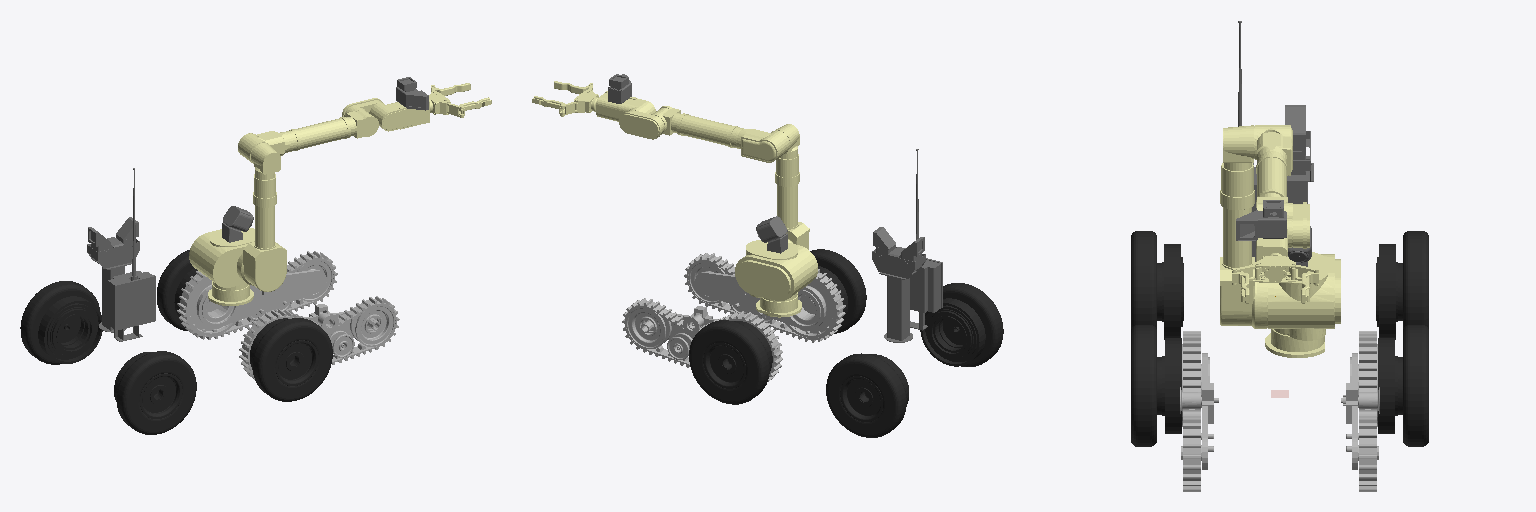
--- Facts derived from the render (not from the file) ---
The picture shows the robot from 3 angles, left to right: view 1: azimuth 30°, elevation 25°; view 2: azimuth 150°, elevation 25°; view 3: azimuth 270°, elevation 25°; orthographic projection.
Robot: move_vehicle — 29 links, 28 joints (12 revolute, 4 continuous, 1 prismatic, 11 fixed); root link base_footprint; default pose: all joints at 0.
Links seen in each view (by area): view 1: swingarm_left, wheel_rf, wheel_rb, wheel_lb, 21_communication_device, swingarm_right, 13_arm_bigarm_pitch, 12_arm_turret_rotate, 16_arm_forearm_rotate, wheel_lf, 17_arm_wrist_pitch, 15_arm_forearm_pitch (+4 smaller); view 2: swingarm_right, wheel_lf, wheel_lb, 21_communication_device, wheel_rb, swingarm_left, 12_arm_turret_rotate, 16_arm_forearm_rotate, wheel_rf, 13_arm_bigarm_pitch, 15_arm_forearm_pitch, 17_arm_wrist_pitch (+3 smaller); view 3: wheel_rf, wheel_lf, 13_arm_bigarm_pitch, wheel_lb, wheel_rb, 12_arm_turret_rotate, swingarm_left, swingarm_right, 21_communication_device, 16_arm_forearm_rotate, 23_wrist_camera, 14_arm_bigarm_linear (+4 smaller).
Boxes of the visible links, <box> form: swingarm_left: <box>177,251,337,339</box>; wheel_rf: <box>250,318,332,401</box>; wheel_rb: <box>114,351,196,434</box>; wheel_lb: <box>20,281,102,364</box>; 21_communication_device: <box>87,168,155,341</box>; swingarm_right: <box>239,296,399,379</box>; 13_arm_bigarm_pitch: <box>237,174,286,291</box>; 12_arm_turret_rotate: <box>189,228,254,290</box>; 16_arm_forearm_rotate: <box>289,98,382,150</box>; wheel_lf: <box>157,250,197,330</box>; 17_arm_wrist_pitch: <box>369,99,432,131</box>; 15_arm_forearm_pitch: <box>238,131,293,162</box>; swingarm_right: <box>684,253,845,342</box>; wheel_lf: <box>689,320,772,404</box>; wheel_lb: <box>826,353,908,437</box>; 21_communication_device: <box>872,149,942,342</box>; wheel_rb: <box>920,283,1003,366</box>; swingarm_left: <box>622,298,782,381</box>; 12_arm_turret_rotate: <box>735,240,817,301</box>; 16_arm_forearm_rotate: <box>619,106,739,147</box>; wheel_rf: <box>810,249,866,333</box>; 13_arm_bigarm_pitch: <box>775,154,809,249</box>; 15_arm_forearm_pitch: <box>734,128,789,162</box>; 17_arm_wrist_pitch: <box>591,91,655,121</box>; wheel_rf: <box>1131,325,1181,446</box>; wheel_lf: <box>1378,325,1428,446</box>; 13_arm_bigarm_pitch: <box>1220,163,1266,328</box>; wheel_lb: <box>1376,231,1428,339</box>; wheel_rb: <box>1131,231,1183,339</box>; 12_arm_turret_rotate: <box>1267,252,1340,340</box>; swingarm_left: <box>1341,331,1379,491</box>; swingarm_right: <box>1180,331,1218,491</box>; 21_communication_device: <box>1238,21,1313,261</box>; 16_arm_forearm_rotate: <box>1256,153,1309,248</box>; 23_wrist_camera: <box>1236,200,1286,240</box>; 14_arm_bigarm_linear: <box>1223,125,1254,170</box>.
Size in the robot's own frame: 1.91 by 0.8562 by 1.1 metres.
Meshes: 22 distinct files referenced, 21 mesh visuals loaded (21 binary STL); not drawn: 1 (reference not matched to a file when rendering).

URDF robot description (move_vehicle):
<?xml version="1.0" ?>
<!-- =================================================================================== -->
<!-- |    This document was autogenerated by xacro from mobot_vehicle_1.xacro          | -->
<!-- |    EDITING THIS FILE BY HAND IS NOT RECOMMENDED                                 | -->
<!-- =================================================================================== -->
<robot name="move_vehicle" xmlns:xacro="http://www.ros.org/wiki/xacro">
  <!-- 1. Defining the colors used in this robot -->
  <material name="MistyRose">
    <color rgba="1 0.8945 0.8828 1"/>
  </material>
  <material name="Grey">
    <color rgba="0.2148 0.2148 0.2148 1"/>
  </material>
  <material name="Blue">
    <color rgba="0.0 0.0 0.8 1.0"/>
  </material>
  <material name="MiddleGrey">
    <color rgba="0.5 0.5 0.5 1"/>
  </material>
  <material name="LightGrey">
    <color rgba="0.75 0.75 0.75 1"/>
  </material>
  <material name="Bisque">
    <color rgba="0.9336 0.9336 0.7188 1"/>
  </material>
  <!--  2. Define the baseprint of the robot  -->
  <link name="base_footprint">
    <visual>
      <origin rpy="0 0 0" xyz="0 0 0"/>
      <geometry>
        <box size="0.05 0.05 0.001"/>
      </geometry>
      <material name="MistyRose"/>
    </visual>
  </link>
  <gazebo reference="base_footprint">
    <turnGravityOff>false</turnGravityOff>
  </gazebo>
  <!--  3. Define the robot movebase  -->
  <link name="base_link">
    <visual>
      <origin rpy="0 0 0" xyz="0 0 0"/>
      <geometry>
        <mesh filename="package://mobot_description/meshes/base_link.STL"/>
      </geometry>
      <material name="MistyRose"/>
    </visual>
    <collision>
      <origin rpy="0 0 0" xyz="0 0 0"/>
      <geometry>
        <mesh filename="package://mobot_description/meshes/base_link.STL"/>
      </geometry>
    </collision>
    <inertial>
      <origin rpy="0 0 0" xyz="0.038037 -0.0019933 0.00077981"/>
      <mass value="31.065"/>
      <inertia ixx="1.0666" ixy="0.011171" ixz="-0.00016117" iyy="2.3226" iyz="0.00014034" izz="3.1096"/>
    </inertial>
  </link>
  <joint name="base_joint" type="fixed">
    <origin rpy="0 0 0" xyz="0 0 0.175"/>
    <parent link="base_footprint"/>
    <child link="base_link"/>
  </joint>
  <gazebo reference="base_link">
    <material>Gazebo/Red</material>
    <turnGravityOff>false</turnGravityOff>
  </gazebo>
  <!--  Define the fake joints for the move base  -->
  <!-->
    <link name="fake_left_wheel">
      <visual>
        <origin rpy="0 0 0" xyz="0 0 0"/>
        <geometry>
          <box size="0.001 0.001 0.001"/>
        </geometry>
      </visual>
      <collision>
        <origin rpy="0 0 0" xyz="0 0 0"/>
        <geometry>
          <box size="0.001 0.001 0.001"/>
        </geometry>
      </collision>
      <inertial>
        <mass value="0.001" />
        <origin xyz="0 0 0" />
        <inertia ixx="0.001" ixy="0.0" ixz="0.0"
            iyy="0.001" iyz="0.0" izz="0.001" />
      </inertial>
    </link>
    <joint name="base_l_wheel_joint" type="continuous">
      <origin xyz="0.0 0.3901 0.0" rpy="-1.5708 -1.5708 0" />
      <parent link="base_link" />
      <child link="fake_left_wheel" />
      <axis xyz="0 0 1" />
    </joint>


    <link name="fake_right_wheel">
      <visual>
        <origin rpy="0 0 0" xyz="0 0 0"/>
        <geometry>
          <box size="0.001 0.001 0.001"/>
        </geometry>
      </visual>
      <collision>
        <origin rpy="0 0 0" xyz="0 0 0"/>
        <geometry>
          <box size="0.001 0.001 0.001"/>
        </geometry>
      </collision>
    </link>

    <joint name="base_r_wheel_joint" type="continuous">
      <origin xyz="0.0 -0.3901 0.0" rpy="-1.5708 -1.5708 0" />
      <parent link="base_link" />
      <child link="fake_right_wheel" />
      <axis xyz="0 0 1" />
    </joint>
<-->
  <!--  ///////////////////////////////////////////////////////////////////////////  -->
  <!--  4. Define the four wheels of robot movebase  -->
  <!-- 4.1. the left_front wheel -->
  <link name="wheel_lf">
    <inertial>
      <origin rpy="0 0 0" xyz="1.7209E-06 -7.4175E-07 -0.024764"/>
      <mass value="7.6485"/>
      <inertia ixx="0.079312" ixy="9.0434E-07" ixz="-5.3408E-07" iyy="0.079311" iyz="2.374E-07" izz="0.12138"/>
    </inertial>
    <visual>
      <origin rpy="0 0 0" xyz="0 0 0"/>
      <geometry>
        <mesh filename="package://mobot_description/meshes/wheel_lf.STL"/>
      </geometry>
      <material name="Grey"/>
    </visual>
    <collision>
      <origin rpy="0 0 0" xyz="0 0 0"/>
      <geometry>
        <mesh filename="package://mobot_description/meshes/wheel_lf.STL"/>
      </geometry>
    </collision>
  </link>
  <joint name="joint_wheel_lf" type="continuous">
    <origin rpy="-1.5708 -1.5708 0" xyz="0.319 0.3901 0.0"/>
    <parent link="base_link"/>
    <child link="wheel_lf"/>
    <axis xyz="0 0 1"/>
    <limit effort="1000" velocity="0.7854"/>
  </joint>
  <!-- joint name="joint_wheel_lf" type="continuous">
      <origin xyz="0.319 0.3901 0.0" rpy="-1.5708 -1.5708 0" />
      <parent link="base_link" />
      <child link="wheel_lf" />
      <axis xyz="0 0 1" />
      <limit effort="1000" velocity="0.7854" />
      <mimic joint="base_l_wheel_joint" multiplier="1" offset="0" />
    </joint -->
  <!-- 4.2. the right_front wheel -->
  <link name="wheel_rf">
    <inertial>
      <origin rpy="0 0 0" xyz="-1.8953E-06 -2.7769E-08 0.024816"/>
      <mass value="7.553"/>
      <inertia ixx="0.079028" ixy="2.7999E-08" ixz="-5.8191E-07" iyy="0.079026" iyz="-1.5482E-08" izz="0.12098"/>
    </inertial>
    <visual>
      <origin rpy="0 0 0" xyz="0 0 0"/>
      <geometry>
        <mesh filename="package://mobot_description/meshes/wheel_rf.STL"/>
      </geometry>
      <material name="Grey"/>
    </visual>
    <collision>
      <origin rpy="0 0 0" xyz="0 0 0"/>
      <geometry>
        <mesh filename="package://mobot_description/meshes/wheel_rf.STL"/>
      </geometry>
    </collision>
  </link>
  <joint name="joint_wheel_rf" type="continuous">
    <origin rpy="-1.5708 -1.5708 0" xyz="0.319 -0.3901 0.0"/>
    <parent link="base_link"/>
    <child link="wheel_rf"/>
    <axis xyz="0 0 1"/>
    <limit effort="1000" velocity="0.7854"/>
  </joint>
  <!-- joint name="joint_wheel_rf" type="continuous">
      <origin xyz="0.319 -0.3901 0.0" rpy="-1.5708 -1.5708 0" />
      <parent link="base_link" />
      <child link="wheel_rf" />
      <axis xyz="0 0 1" />
      <limit effort="1000" velocity="0.7854" />
      <mimic joint="base_r_wheel_joint" multiplier="1" offset="0" />
    </joint -->
  <!-- 4.3. the left_back wheel -->
  <link name="wheel_lb">
    <inertial>
      <origin rpy="0 0 0" xyz="-1.5753E-06 1.2458E-06 -0.014717"/>
      <mass value="7.133"/>
      <inertia ixx="0.065774" ixy="1.2549E-06" ixz="5.6643E-07" iyy="0.065773" iyz="-4.5681E-07" izz="0.11221"/>
    </inertial>
    <visual>
      <origin rpy="0 0 0" xyz="0 0 0"/>
      <geometry>
        <mesh filename="package://mobot_description/meshes/wheel_lb.STL"/>
      </geometry>
      <material name="Grey"/>
    </visual>
    <collision>
      <origin rpy="0 0 0" xyz="0 0 0"/>
      <geometry>
        <mesh filename="package://mobot_description/meshes/wheel_lb.STL"/>
      </geometry>
    </collision>
  </link>
  <joint name="joint_wheel_lb" type="continuous">
    <origin rpy="-1.5708 -1.5708 0" xyz="-0.319 0.3901 0.0"/>
    <parent link="base_link"/>
    <child link="wheel_lb"/>
    <axis xyz="0 0 1"/>
    <limit effort="1000" velocity="0.7854"/>
  </joint>
  <!-- joint name="joint_wheel_lb" type="continuous">
      <origin xyz="-0.319 0.3901 0.0" rpy="-1.5708 -1.5708 0" />
      <parent link="base_link" />
      <child link="wheel_lb" />
      <axis xyz="0 0 1" />
      <limit effort="1000" velocity="0.7854" />
      <mimic joint="base_l_wheel_joint" multiplier="1" offset="0" />
    </joint -->
  <!-- 4.4. the right_back wheel -->
  <link name="wheel_rb">
    <inertial>
      <origin rpy="0 0 0" xyz="-1.259E-06 1.5919E-06 0.014292"/>
      <mass value="7.0585"/>
      <inertia ixx="0.065491" ixy="1.2549E-06" ixz="-4.6059E-07" iyy="0.065492" iyz="5.712E-07" izz="0.1119"/>
    </inertial>
    <visual>
      <origin rpy="0 0 0" xyz="0 0 0"/>
      <geometry>
        <mesh filename="package://mobot_description/meshes/wheel_rb.STL"/>
      </geometry>
      <material name="Grey"/>
    </visual>
    <collision>
      <origin rpy="0 0 0" xyz="0 0 0"/>
      <geometry>
        <mesh filename="package://mobot_description/meshes/wheel_rb.STL"/>
      </geometry>
    </collision>
  </link>
  <joint name="joint_wheel_rb" type="continuous">
    <origin rpy="-1.5708 -1.5708 0" xyz="-0.319 -0.3901 0.0"/>
    <parent link="base_link"/>
    <child link="wheel_rb"/>
    <axis xyz="0 0 1"/>
    <limit effort="1000" velocity="0.7854"/>
  </joint>
  <!-- joint name="joint_wheel_rb" type="continuous">
      <origin xyz="-0.319 -0.3901 0.0" rpy="-1.5708 -1.5708 0" />
      <parent link="base_link" />
      <child link="wheel_rb" />
      <axis xyz="0 0 1" />
      <limit effort="1000" velocity="0.7854" />
      <mimic joint="base_r_wheel_joint" multiplier="1" offset="0" />
    </joint -->
  <!-- 4.5. Define the Gazebo Reference -->
  <gazebo reference="wheel_lf">
    <mu1 value="200.0"/>
    <mu2 value="3.0"/>
    <kp value="1000000.0"/>
    <kd value="1.0"/>
    <fdir1 value="0 1 0"/>
    <material>Gazebo/FlatBlack</material>
    <turnGravityOff>false</turnGravityOff>
  </gazebo>
  <gazebo reference="wheel_rf">
    <mu1 value="200.0"/>
    <mu2 value="3.0"/>
    <kp value="1000000.0"/>
    <kd value="1.0"/>
    <fdir1 value="0 1 0"/>
    <material>Gazebo/FlatBlack</material>
    <turnGravityOff>false</turnGravityOff>
  </gazebo>
  <gazebo reference="wheel_lb">
    <mu1 value="200.0"/>
    <mu2 value="3.0"/>
    <kp value="1000000.0"/>
    <kd value="1.0"/>
    <fdir1 value="0 1 0"/>
    <material>Gazebo/FlatBlack</material>
    <turnGravityOff>false</turnGravityOff>
  </gazebo>
  <gazebo reference="wheel_rb">
    <mu1 value="200.0"/>
    <mu2 value="3.0"/>
    <kp value="1000000.0"/>
    <kd value="1.0"/>
    <fdir1 value="0 1 0"/>
    <material>Gazebo/FlatBlack</material>
    <turnGravityOff>false</turnGravityOff>
  </gazebo>
  <!-- 4.6. Define the Gazebo Transmission -->
  <!-->
    <transmission name="lf_wheel_trans">
      <type>transmission_interface/SimpleTransmission</type>
      <actuator name="lf_wheel_motor">
        <mechanicalReduction>1</mechanicalReduction>
        <hardwareInterface>EffortJointInterface</hardwareInterface>
      </actuator>
      <joint name="joint_wheel_lf">
        <mechanicalReduction>1</mechanicalReduction>
      </joint>
    </transmission>
    <transmission name="rf_wheel_trans">
      <type>transmission_interface/SimpleTransmission</type>
      <actuator name="rf_wheel_motor">
        <mechanicalReduction>1</mechanicalReduction>
        <hardwareInterface>EffortJointInterface</hardwareInterface>
      </actuator>
      <joint name="joint_wheel_rf">
        <mechanicalReduction>1</mechanicalReduction>
      </joint>
    </transmission>
    <transmission name="lb_wheel_trans">
      <type>transmission_interface/SimpleTransmission</type>
      <actuator name="lb_wheel_motor">
        <mechanicalReduction>1</mechanicalReduction>
        <hardwareInterface>EffortJointInterface</hardwareInterface>
      </actuator>
      <joint name="joint_wheel_lb">
        <mechanicalReduction>1</mechanicalReduction>
      </joint>
    </transmission>
    <transmission name="rb_wheel_trans">
      <type>transmission_interface/SimpleTransmission</type>
      <actuator name="rb_wheel_motor">
        <mechanicalReduction>1</mechanicalReduction>
        <hardwareInterface>EffortJointInterface</hardwareInterface>
      </actuator>
      <joint name="joint_wheel_rb">
        <mechanicalReduction>1</mechanicalReduction>
      </joint>
    </transmission>
    <-->
  <!--  5. Define the left swing-arm  -->
  <link name="swingarm_left">
    <inertial>
      <origin rpy="0 0 0" xyz="-0.0040312 0.13583 -0.011794"/>
      <mass value="4.1371"/>
      <inertia ixx="0.14405" ixy="-0.002008" ixz="-0.00056728" iyy="0.025525" iyz="-0.00019287" izz="0.1556"/>
    </inertial>
    <visual>
      <origin rpy="0 0 0" xyz="0 0 0"/>
      <!-- -0.5236 -->
      <geometry>
        <mesh filename="package://mobot_description/meshes/swingarm_left.STL"/>
      </geometry>
      <material name="LightGrey"/>
    </visual>
    <collision>
      <origin rpy="0 0 0" xyz="0 0 0"/>
      <!-- -0.5236 -->
      <geometry>
        <mesh filename="package://mobot_description/meshes/swingarm_left.STL"/>
      </geometry>
    </collision>
  </link>
  <joint name="joint_swingarm_left" type="revolute">
    <origin rpy="-1.5708 -1.5708 0" xyz="0.319 0.2516 0.0"/>
    <parent link="base_link"/>
    <child link="swingarm_left"/>
    <axis xyz="0 0 -1"/>
    <limit effort="1000" lower="-0.7854" upper="1.0472" velocity="0.7854"/>
  </joint>
  <!-- joint name="joint_swingarm_left" type="fixed">
      <origin xyz="0.319 0.2516 0.0" rpy="-1.5708 -1.5708 0" />
      <parent link="base_link" />
      <child link="swingarm_left" />
    </joint -->
  <gazebo reference="swingarm_left">
    <material>Gazebo/Grey</material>
    <turnGravityOff>false</turnGravityOff>
  </gazebo>
  <transmission name="left_swingarm_trans">
    <type>transmission_interface/SimpleTransmission</type>
    <joint name="joint_swingarm_left">
      <hardwareInterface>VelocityJointInterface</hardwareInterface>
    </joint>
    <actuator name="left_swingarm_motor">
      <mechanicalReduction>1</mechanicalReduction>
      <hardwareInterface>VelocityJointInterface</hardwareInterface>
    </actuator>
  </transmission>
  <!--  ///////////////////////////////////////////////////////////////////////////  -->
  <!--  6. Define the right swing-arm  -->
  <link name="swingarm_right">
    <inertial>
      <origin rpy="0 0 0" xyz="-0.0040022 0.13616 0.010996"/>
      <mass value="4.1247"/>
      <inertia ixx="0.14347" ixy="-0.0020306" ixz="0.00055968" iyy="0.025147" iyz="0.00063656" izz="0.15536"/>
    </inertial>
    <visual>
      <origin rpy="0 0 0" xyz="0 0 0"/>
      <!-- -0.5236 -->
      <geometry>
        <mesh filename="package://mobot_description/meshes/swingarm_right.STL"/>
      </geometry>
      <material name="LightGrey"/>
    </visual>
    <collision>
      <origin rpy="0 0 0" xyz="0 0 0"/>
      <!-- -0.5236 -->
      <geometry>
        <mesh filename="package://mobot_description/meshes/swingarm_right.STL"/>
      </geometry>
    </collision>
  </link>
  <joint name="joint_swingarm_right" type="revolute">
    <origin rpy="-1.5708 -1.5708 0" xyz="0.319 -0.2516 0.0"/>
    <parent link="base_link"/>
    <child link="swingarm_right"/>
    <axis xyz="0 0 -1"/>
    <limit effort="1000" lower="-0.7854" upper="1.0472" velocity="0.7854"/>
  </joint>
  <!-- joint name="joint_swingarm_right" type="fixed">
      <origin xyz="0.319 -0.2516 0.0" rpy="-1.5708 -1.5708 0" />
      <parent link="base_link" />
      <child link="swingarm_right" />
    </joint -->
  <gazebo reference="swingarm_right">
    <material>Gazebo/Grey</material>
    <turnGravityOff>false</turnGravityOff>
  </gazebo>
  <transmission name="right_swingarm_trans">
    <type>transmission_interface/SimpleTransmission</type>
    <joint name="joint_swingarm_right">
      <hardwareInterface>VelocityJointInterface</hardwareInterface>
    </joint>
    <actuator name="right_swingarm_motor">
      <mechanicalReduction>1</mechanicalReduction>
      <hardwareInterface>VelocityJointInterface</hardwareInterface>
    </actuator>
  </transmission>
  <!--  ///////////////////////////////////////////////////////////////////////////  -->
  <!--  7.1. Define the base of the 7DOF arm  -->
  <link name="11_arm_base_link">
    <inertial>
      <origin rpy="0 0 0" xyz="0.0005196 -0.002636 0.02178"/>
      <mass value="0.5648"/>
      <inertia ixx="0.001421" ixy="-2.8620E-06" ixz="-4.8464E-06" iyy="0.001546" iyz="2.3241E-05" izz="0.002700"/>
    </inertial>
    <visual>
      <origin rpy="0 0 0" xyz="0 0 0"/>
      <geometry>
        <mesh filename="package://mobot_description/meshes/11_arm_base_link.STL"/>
      </geometry>
      <material name="Bisque"/>
    </visual>
    <collision>
      <origin rpy="0 0 0" xyz="0 0 0"/>
      <geometry>
        <mesh filename="package://mobot_description/meshes/11_arm_base_link.STL"/>
      </geometry>
    </collision>
  </link>
  <joint name="joint_arm_base_link" type="fixed">
    <origin rpy="0 0 0" xyz="0.2834 0.0506 0.1145"/>
    <parent link="base_link"/>
    <child link="11_arm_base_link"/>
    <axis xyz="0 0 0"/>
  </joint>
  <gazebo reference="11_arm_base_link">
    <material>Gazebo/Grey</material>
    <turnGravityOff>false</turnGravityOff>
  </gazebo>
  <!--  7.2. Define the turret-ratate part of the 7DOF arm  -->
  <link name="12_arm_turret_rotate">
    <inertial>
      <origin rpy="0 0 0" xyz="0.017985 -0.0088737 0.11066"/>
      <mass value="4.3003"/>
      <inertia ixx="0.033193" ixy="-0.0035111" ixz="0.0011378" iyy="0.032315" iyz="-0.0011051" izz="0.036273"/>
    </inertial>
    <visual>
      <origin rpy="0 0 0" xyz="0 0 0"/>
      <geometry>
        <mesh filename="package://mobot_description/meshes/12_arm_turret_rotate.STL"/>
      </geometry>
      <material name="Bisque"/>
    </visual>
    <collision>
      <origin rpy="0 0 0" xyz="0 0 0"/>
      <geometry>
        <mesh filename="package://mobot_description/meshes/12_arm_turret_rotate.STL"/>
      </geometry>
    </collision>
  </link>
  <joint name="joint_turret_rotate" type="revolute">
    <origin rpy="0 0 0" xyz="0 0 0.06"/>
    <parent link="11_arm_base_link"/>
    <child link="12_arm_turret_rotate"/>
    <axis xyz="0 0 1"/>
    <limit effort="1000" lower="-3.1415" upper="3.1415" velocity="0.7854"/>
  </joint>
  <!-- joint name="joint_turret_rotate" type="fixed">
      <origin xyz="0 0 0.06" rpy="0 0 0" />
      <parent link="11_arm_base_link" />
      <child link="12_arm_turret_rotate" />
    </joint -->
  <gazebo reference="12_arm_turret_rotate">
    <material>Gazebo/Grey</material>
    <turnGravityOff>false</turnGravityOff>
  </gazebo>
  <transmission name="turret_rotate_trans">
    <type>transmission_interface/SimpleTransmission</type>
    <joint name="joint_turret_rotate">
      <hardwareInterface>PositionJointInterface</hardwareInterface>
    </joint>
    <actuator name="turret_rotate_motor">
      <mechanicalReduction>1</mechanicalReduction>
      <hardwareInterface>PositionJointInterface</hardwareInterface>
    </actuator>
  </transmission>
  <!--  7.3. Define the bigarm-pitch part of the 7DOF arm  -->
  <link name="13_arm_bigarm_pitch">
    <inertial>
      <origin rpy="0 0 0" xyz="0.10588 0.0046944 0.046951"/>
      <mass value="1.87495"/>
      <inertia ixx="0.0053558" ixy="-0.00049012" ixz="0.0014335" iyy="0.036157" iyz="5.0898E-05" izz="0.037051"/>
    </inertial>
    <visual>
      <origin rpy="0 0 0" xyz="0 0 0"/>
      <geometry>
        <mesh filename="package://mobot_description/meshes/13_arm_bigarm_pitch.STL"/>
      </geometry>
      <material name="Bisque"/>
    </visual>
    <collision>
      <origin rpy="0 0 0" xyz="0 0 0"/>
      <geometry>
        <mesh filename="package://mobot_description/meshes/13_arm_bigarm_pitch.STL"/>
      </geometry>
    </collision>
  </link>
  <joint name="joint_bigarm_pitch" type="revolute">
    <origin rpy="1.5708 -1.5708 0" xyz="0.060569 -0.1185 0.1095"/>
    <parent link="12_arm_turret_rotate"/>
    <child link="13_arm_bigarm_pitch"/>
    <axis xyz="0 0 1"/>
    <limit effort="1000" lower="-1.9199" upper="1.1345" velocity="0.7854"/>
  </joint>
  <!-- joint name="joint_bigarm_pitch" type="fixed">
      <origin xyz="0.060569 -0.1185 0.1095" rpy="1.5708 -1.5708 0" />
      <parent link="12_arm_turret_rotate" />
      <child link="13_arm_bigarm_pitch" />
    </joint -->
  <gazebo reference="13_arm_bigarm_pitch">
    <material>Gazebo/Grey</material>
    <turnGravityOff>false</turnGravityOff>
  </gazebo>
  <transmission name="bigarm_pitch_trans">
    <type>transmission_interface/SimpleTransmission</type>
    <joint name="joint_bigarm_pitch">
      <hardwareInterface>PositionJointInterface</hardwareInterface>
    </joint>
    <actuator name="bigarm_pitch_motor">
      <mechanicalReduction>1</mechanicalReduction>
      <hardwareInterface>PositionJointInterface</hardwareInterface>
    </actuator>
  </transmission>
  <!--  7.4. Define the bigarm-linear part of the 7DOF arm  -->
  <link name="14_arm_bigarm_linear">
    <inertial>
      <origin rpy="0 0 0" xyz="0.016875 -0.0058662 -0.030993"/>
      <mass value="1.1107"/>
      <inertia ixx="0.018966" ixy="-7.4160E-05" ixz="0.0018801" iyy="0.019599" iyz="-0.00058459" izz="0.0019633"/>
    </inertial>
    <visual>
      <origin rpy="0 0 0" xyz="0 0 0"/>
      <geometry>
        <mesh filename="package://mobot_description/meshes/14_arm_bigarm_linear.STL"/>
      </geometry>
      <material name="Bisque"/>
    </visual>
    <collision>
      <origin rpy="0 0 0" xyz="0 0 0"/>
      <geometry>
        <mesh filename="package://mobot_description/meshes/14_arm_bigarm_linear.STL"/>
      </geometry>
    </collision>
  </link>
  <joint name="joint_bigarm_linear" type="prismatic">
    <origin rpy="0 1.5708 0" xyz="0.426 0 0.054"/>
    <parent link="13_arm_bigarm_pitch"/>
    <child link="14_arm_bigarm_linear"/>
    <axis xyz="0 0 1"/>
    <limit effort="1000" lower="0" upper="0.2" velocity="0.2"/>
  </joint>
  <!-- joint name="joint_bigarm_linear" type="fixed">
      <origin xyz="0.426 0 0.054" rpy="0 1.5708 0" />
      <parent link="13_arm_bigarm_pitch" />
      <child link="14_arm_bigarm_linear" />
    </joint -->
  <gazebo reference="14_arm_bigarm_linear">
    <material>Gazebo/Grey</material>
    <turnGravityOff>false</turnGravityOff>
  </gazebo>
  <transmission name="bigarm_linear_trans">
    <type>transmission_interface/SimpleTransmission</type>
    <joint name="joint_bigarm_linear">
      <hardwareInterface>PositionJointInterface</hardwareInterface>
    </joint>
    <actuator name="bigarm_linear_motor">
      <mechanicalReduction>1</mechanicalReduction>
      <hardwareInterface>PositionJointInterface</hardwareInterface>
    </actuator>
  </transmission>
  <!--  7.5. Define the forearm-pitch part of the 7DOF arm  -->
  <link name="15_arm_forearm_pitch">
    <inertial>
      <origin rpy="0 0 0" xyz="0.065889 -0.0025453 -0.015685"/>
      <mass value="0.82182"/>
      <inertia ixx="0.0012808" ixy="8.8555E-05" ixz="0.00016596" iyy="0.0035941" iyz="7.0432E-05" izz="0.0035121"/>
    </inertial>
    <visual>
      <origin rpy="0 0 0" xyz="0 0 0"/>
      <geometry>
        <mesh filename="package://mobot_description/meshes/15_arm_forearm_pitch.STL"/>
      </geometry>
      <material name="Bisque"/>
    </visual>
    <collision>
      <origin rpy="0 0 0" xyz="0 0 0"/>
      <geometry>
        <mesh filename="package://mobot_description/meshes/15_arm_forearm_pitch.STL"/>
      </geometry>
    </collision>
  </link>
  <joint name="joint_forearm_pitch" type="revolute">
    <origin rpy="1.5708 0 -1.5708" xyz="0.08818 -0.01 0.075743"/>
    <parent link="14_arm_bigarm_linear"/>
    <child link="15_arm_forearm_pitch"/>
    <axis xyz="0 0 -1"/>
    <limit effort="1000" lower="-2.7053" upper="2.7053" velocity="0.7854"/>
  </joint>
  <!-- joint name="joint_forearm_pitch" type="fixed">
      <origin xyz="0.08818 -0.01 0.075743" rpy="1.5708 0 -1.5708" />
      <parent link="14_arm_bigarm_linear" />
      <child link="15_arm_forearm_pitch" />
    </joint -->
  <gazebo reference="15_arm_forearm_pitch">
    <material>Gazebo/Grey</material>
    <turnGravityOff>false</turnGravityOff>
  </gazebo>
  <transmission name="forearm_pitch_trans">
    <type>transmission_interface/SimpleTransmission</type>
    <joint name="joint_forearm_pitch">
      <hardwareInterface>PositionJointInterface</hardwareInterface>
    </joint>
    <actuator name="forearm_pitch_motor">
      <mechanicalReduction>1</mechanicalReduction>
      <hardwareInterface>PositionJointInterface</hardwareInterface>
    </actuator>
  </transmission>
  <!--  7.6. Define the forearm-rotate part of the 7DOF arm  -->
  <link name="16_arm_forearm_rotate">
    <inertial>
      <origin rpy="0 0 0" xyz="0.022732 0.00015966 0.26742"/>
      <mass value="1.47474"/>
      <inertia ixx="0.028919" ixy="1.6692E-06" ixz="0.0043549" iyy="0.030231" iyz="1.8894E-05" izz="0.0030219"/>
    </inertial>
    <visual>
      <origin rpy="0 0 0" xyz="0 0 0"/>
      <geometry>
        <mesh filename="package://mobot_description/meshes/16_arm_forearm_rotate.STL"/>
      </geometry>
      <material name="Bisque"/>
    </visual>
    <collision>
      <origin rpy="0 0 0" xyz="0 0 0"/>
      <geometry>
        <mesh filename="package://mobot_description/meshes/16_arm_forearm_rotate.STL"/>
      </geometry>
    </collision>
  </link>
  <joint name="joint_forearm_rotate" type="revolute">
    <origin rpy="0 1.5708 0" xyz="0.1585 0 -0.01"/>
    <parent link="15_arm_forearm_pitch"/>
    <child link="16_arm_forearm_rotate"/>
    <axis xyz="0 0 -1"/>
    <limit effort="1000" lower="-3.1415" upper="3.1415" velocity="0.7854"/>
  </joint>
  <!-- joint name="joint_forearm_rotate" type="fixed">
      <origin xyz="0.1585 0 -0.01" rpy="0 1.5708 0" />
      <parent link="15_arm_forearm_pitch" />
      <child link="16_arm_forearm_rotate" />
    </joint -->
  <gazebo reference="16_arm_forearm_rotate">
    <material>Gazebo/Grey</material>
    <turnGravityOff>false</turnGravityOff>
  </gazebo>
  <transmission name="forearm_rotate_trans">
    <type>transmission_interface/SimpleTransmission</type>
    <joint name="joint_forearm_rotate">
      <hardwareInterface>PositionJointInterface</hardwareInterface>
    </joint>
    <actuator name="forearm_rotate_motor">
      <mechanicalReduction>1</mechanicalReduction>
      <hardwareInterface>PositionJointInterface</hardwareInterface>
    </actuator>
  </transmission>
  <!--  7.7. Define the wrist-pitch part of the 7DOF arm  -->
  <link name="17_arm_wrist_pitch">
    <inertial>
      <origin rpy="0 0 0" xyz="0.093903 -8.3831E-05 0.025644"/>
      <mass value="0.87731"/>
      <inertia ixx="0.0012299" ixy="-1.7286E-05" ixz="0.0001045" iyy="0.0048959" iyz="-1.0051E-05" izz="0.0049504"/>
    </inertial>
    <visual>
      <origin rpy="0 0 0" xyz="0 0 0"/>
      <geometry>
        <mesh filename="package://mobot_description/meshes/17_arm_wrist_pitch.STL"/>
      </geometry>
      <material name="Bisque"/>
    </visual>
    <collision>
      <origin rpy="0 0 0" xyz="0 0 0"/>
      <geometry>
        <mesh filename="package://mobot_description/meshes/17_arm_wrist_pitch.STL"/>
      </geometry>
    </collision>
  </link>
  <joint name="joint_wrist_pitch" type="revolute">
    <origin rpy="0 -1.5708 0" xyz="0.026285 0 0.45399"/>
    <parent link="16_arm_forearm_rotate"/>
    <child link="17_arm_wrist_pitch"/>
    <axis xyz="0 0 1"/>
    <limit effort="1000" lower="-1.5708" upper="1.5708" velocity="0.7854"/>
  </joint>
  <!-- joint name="joint_wrist_pitch" type="fixed">
      <origin xyz="0.026285 0 0.45399" rpy="0 -1.5708 0" />
      <parent link="16_arm_forearm_rotate" />
      <child link="17_arm_wrist_pitch" />
    </joint -->
  <gazebo reference="17_arm_wrist_pitch">
    <material>Gazebo/Grey</material>
    <turnGravityOff>false</turnGravityOff>
  </gazebo>
  <transmission name="wrist_pitch_trans">
    <type>transmission_interface/SimpleTransmission</type>
    <joint name="joint_wrist_pitch">
      <hardwareInterface>PositionJointInterface</hardwareInterface>
    </joint>
    <actuator name="wrist_pitch_motor">
      <mechanicalReduction>1</mechanicalReduction>
      <hardwareInterface>PositionJointInterface</hardwareInterface>
    </actuator>
  </transmission>
  <!--  7.8. Define the wrist-rotate part of the 7DOF arm  -->
  <link name="18_arm_wrist_rotate">
    <inertial>
      <origin rpy="0 0 0" xyz="7.8716E-05 -9.5743E-06 0.034827"/>
      <mass value="0.18321"/>
      <inertia ixx="0.00012884" ixy="2.9321E-07" ixz="2.5543E-07" iyy="0.00025515" iyz="-2.0848E-08" izz="0.00023184"/>
    </inertial>
    <visual>
      <origin rpy="0 0 0" xyz="0 0 0"/>
      <geometry>
        <mesh filename="package://mobot_description/meshes/18_arm_wrist_rotate.STL"/>
      </geometry>
      <material name="Bisque"/>
    </visual>
    <collision>
      <origin rpy="0 0 0" xyz="0 0 0"/>
      <geometry>
        <mesh filename="package://mobot_description/meshes/18_arm_wrist_rotate.STL"/>
      </geometry>
    </collision>
  </link>
  <joint name="joint_wrist_rotate" type="revolute">
    <origin rpy="0 1.5708 0" xyz="0.2125 0 0.0155"/>
    <parent link="17_arm_wrist_pitch"/>
    <child link="18_arm_wrist_rotate"/>
    <axis xyz="0 0 -1"/>
    <limit effort="1000" lower="-3.1415" upper="3.1415" velocity="0.7854"/>
  </joint>
  <!-- joint name="joint_wrist_rotate" type="fixed">
      <origin xyz="0.2125 0 0.0155" rpy="0 1.5708 0" />
      <parent link="17_arm_wrist_pitch" />
      <child link="18_arm_wrist_rotate" />
    </joint -->
  <gazebo reference="18_arm_wrist_rotate">
    <material>Gazebo/Grey</material>
    <turnGravityOff>false</turnGravityOff>
  </gazebo>
  <transmission name="wrist_rotate_trans">
    <type>transmission_interface/SimpleTransmission</type>
    <joint name="joint_wrist_rotate">
      <hardwareInterface>PositionJointInterface</hardwareInterface>
    </joint>
    <actuator name="wrist_rotate_motor">
      <mechanicalReduction>1</mechanicalReduction>
      <hardwareInterface>PositionJointInterface</hardwareInterface>
    </actuator>
  </transmission>
  <!--  7.9. Fake gripper link and joint for grasp planning  -->
  <link name="fake_arm_link">
    <visual>
      <origin rpy="0 0 0" xyz="0 0 0"/>
      <geometry>
        <box size="0.001 0.001 0.001"/>
      </geometry>
    </visual>
    <inertial>
      <mass value="0.001"/>
      <origin xyz="0 0 0"/>
      <inertia ixx="0.001" ixy="0.0" ixz="0.0" iyy="0.001" iyz="0.0" izz="0.001"/>
    </inertial>
  </link>
  <joint name="fake_arm_joint" type="fixed">
    <origin rpy="0 0 1.5708" xyz="0 0 0.2179"/>
    <parent link="18_arm_wrist_rotate"/>
    <child link="fake_arm_link"/>
  </joint>
  <gazebo reference="fake_arm_link">
    <material>Gazebo/Gold</material>
    <turnGravityOff>false</turnGravityOff>
  </gazebo>
  <!--  ///////////////////////////////////////////////////////////////////////////  -->
  <!--  8.1. Define the left gripper-rod part1 of the gripper  -->
  <link name="gripper_rod_left1">
    <inertial>
      <origin rpy="0 0 0" xyz="0.0392189 0.0017462 -0.00013931"/>
      <mass value="0.024983"/>
      <inertia ixx="6.0516E-06" ixy="1.0687E-07" ixz="-2.3690E-07" iyy="1.8505E-05" iyz="-9.6717E-09" izz="1.3485E-05"/>
    </inertial>
    <visual>
      <origin rpy="0 0 0" xyz="0 0 0"/>
      <geometry>
        <mesh filename="package://mobot_description/meshes/gripper_rod_left1.STL"/>
      </geometry>
      <material name="Bisque"/>
    </visual>
    <collision>
      <origin rpy="0 0 0" xyz="0 0 0"/>
      <geometry>
        <mesh filename="package://mobot_description/meshes/gripper_rod_left1.STL"/>
      </geometry>
    </collision>
  </link>
  <joint name="joint_rod_left1" type="revolute">
    <origin rpy="-1.5708 -0.4276 0" xyz="0.052 0 0.054"/>
    <parent link="18_arm_wrist_rotate"/>
    <child link="gripper_rod_left1"/>
    <axis xyz="0 0 -1"/>
    <limit effort="1000" lower="0" upper="1.2758" velocity="0.7854"/>
  </joint>
  <!-- joint name="joint_rod_left1" type="fixed">
    <origin xyz="0.052 0 0.054" rpy="-1.5708 -0.4276 0" />
    <parent link="18_arm_wrist_rotate" />
    <child link="gripper_rod_left1" />
  </joint -->
  <gazebo reference="gripper_rod_left1">
    <material>Gazebo/Gold</material>
    <turnGravityOff>false</turnGravityOff>
  </gazebo>
  <!--  8.2. Define the left gripper tip of the gripper  -->
  <link name="gripper_tip_left">
    <inertial>
      <origin rpy="0 0 0" xyz="0.070142 -0.029074 -0.00048704"/>
      <mass value="0.085742"/>
      <inertia ixx="1.3572E-05" ixy="-1.4399E-05" ixz="1.3409E-08" iyy="0.00019024" iyz="6.2787E-09" izz="0.00019252"/>
    </inertial>
    <visual>
      <origin rpy="0 0 0" xyz="0 0 0"/>
      <geometry>
        <mesh filename="package://mobot_description/meshes/gripper_tip_left.STL"/>
      </geometry>
      <material name="Bisque"/>
    </visual>
    <collision>
      <origin rpy="0 0 0" xyz="0 0 0"/>
      <geometry>
        <mesh filename="package://mobot_description/meshes/gripper_tip_left.STL"/>
      </geometry>
    </collision>
  </link>
  <joint name="joint_tip_left" type="revolute">
    <origin rpy="0 0 -1.1432" xyz="0.072 0 0"/>
    <parent link="gripper_rod_left1"/>
    <child link="gripper_tip_left"/>
    <axis xyz="0 0 1"/>
    <limit effort="1000" lower="0" upper="1.2758" velocity="0.7854"/>
    <!--mimic joint="joint_rod_left1" multiplier="1" offset="0" /-->
  </joint>
  <!-- joint name="joint_tip_left" type="fixed">
    <origin xyz="0.072 0 0" rpy="0 0 -1.1432" />
    <parent link="gripper_rod_left1" />
    <child link="gripper_tip_left" />
  </joint -->
  <gazebo reference="gripper_tip_left">
    <material>Gazebo/Gold</material>
    <turnGravityOff>false</turnGravityOff>
  </gazebo>
  <!--  8.3. Define the right gripper-rod part1 of the gripper  -->
  <link name="gripper_rod_right1">
    <inertial>
      <origin rpy="0 0 0" xyz="0.039219 -0.0017462 0.00013931"/>
      <mass value="0.024983"/>
      <inertia ixx="6.0516E-06" ixy="-1.0687E-07" ixz="2.3690E-07" iyy="1.8505E-05" iyz="-9.6716E-09" izz="1.3485E-05"/>
    </inertial>
    <visual>
      <origin rpy="0 0 0" xyz="0 0 0"/>
      <geometry>
        <mesh filename="package://mobot_description/meshes/gripper_rod_right1.STL"/>
      </geometry>
      <material name="Bisque"/>
    </visual>
    <collision>
      <origin rpy="0 0 0" xyz="0 0 0"/>
      <geometry>
        <mesh filename="package://mobot_description/meshes/gripper_rod_right1.STL"/>
      </geometry>
    </collision>
  </link>
  <joint name="joint_rod_right1" type="revolute">
    <origin rpy="-1.5708 -2.7140 0" xyz="-0.052 0 0.054"/>
    <parent link="18_arm_wrist_rotate"/>
    <child link="gripper_rod_right1"/>
    <axis xyz="0 0 1"/>
    <limit effort="1000" lower="0" upper="1.2758" velocity="0.7854"/>
    <!--mimic joint="joint_rod_left1" multiplier="1" offset="0" /-->
  </joint>
  <!-- joint name="joint_rod_right1" type="fixed">
    <origin xyz="-0.052 0 0.054" rpy="-1.5708 -2.7140 0" />
    <parent link="18_arm_wrist_rotate" />
    <child link="gripper_rod_right1" />
  </joint -->
  <gazebo reference="gripper_rod_right1">
    <material>Gazebo/Gold</material>
    <turnGravityOff>false</turnGravityOff>
  </gazebo>
  <!--  8.4. Define the right gripper tip of the gripper  -->
  <link name="gripper_tip_right">
    <inertial>
      <origin rpy="0 0 0" xyz="0.070142 0.029074 -0.00051296"/>
      <mass value="0.085742"/>
      <inertia ixx="1.3572E-05" ixy="1.4399E-05" ixz="-1.3407E-08" iyy="0.00019024" iyz="6.2766E-09" izz="0.00019252"/>
    </inertial>
    <visual>
      <origin rpy="0 0 0" xyz="0 0 0"/>
      <geometry>
        <mesh filename="package://mobot_description/meshes/gripper_tip_right.STL"/>
      </geometry>
      <material name="Bisque"/>
    </visual>
    <collision>
      <origin rpy="0 0 0" xyz="0 0 0"/>
      <geometry>
        <mesh filename="package://mobot_description/meshes/gripper_tip_right.STL"/>
      </geometry>
    </collision>
  </link>
  <joint name="joint_tip_right" type="revolute">
    <origin rpy="0 0 1.1432" xyz="0.072 0 0"/>
    <parent link="gripper_rod_right1"/>
    <child link="gripper_tip_right"/>
    <axis xyz="0 0 -1"/>
    <limit effort="1000" lower="0" upper="1.2758" velocity="0.7854"/>
    <!--mimic joint="joint_rod_left1" multiplier="1" offset="0" /-->
  </joint>
  <!-- joint name="joint_tip_right" type="fixed">
    <origin xyz="0.072 0 0" rpy="0 0 1.1432" />
    <parent link="gripper_rod_right1" />
    <child link="gripper_tip_right" />
  </joint -->
  <gazebo reference="gripper_tip_right">
    <material>Gazebo/Gold</material>
    <turnGravityOff>false</turnGravityOff>
  </gazebo>
  <!--  8.5. Define the transmissions of the gripper  -->
  <transmission name="rod_left1_trans">
    <type>transmission_interface/SimpleTransmission</type>
    <joint name="joint_rod_left1">
      <hardwareInterface>VelocityJointInterface</hardwareInterface>
    </joint>
    <actuator name="rod_left1_motor">
      <mechanicalReduction>1</mechanicalReduction>
      <hardwareInterface>VelocityJointInterface</hardwareInterface>
    </actuator>
  </transmission>
  <transmission name="rod_right1_trans">
    <type>transmission_interface/SimpleTransmission</type>
    <joint name="joint_rod_right1">
      <hardwareInterface>PositionJointInterface</hardwareInterface>
    </joint>
    <actuator name="rod_right1_motor">
      <mechanicalReduction>1</mechanicalReduction>
      <hardwareInterface>PositionJointInterface</hardwareInterface>
    </actuator>
  </transmission>
  <transmission name="tip_left_trans">
    <type>transmission_interface/SimpleTransmission</type>
    <joint name="joint_tip_left">
      <hardwareInterface>PositionJointInterface</hardwareInterface>
    </joint>
    <actuator name="tip_left_motor">
      <mechanicalReduction>1</mechanicalReduction>
      <hardwareInterface>PositionJointInterface</hardwareInterface>
    </actuator>
  </transmission>
  <transmission name="tip_right_trans">
    <type>transmission_interface/SimpleTransmission</type>
    <joint name="joint_tip_right">
      <hardwareInterface>PositionJointInterface</hardwareInterface>
    </joint>
    <actuator name="tip_right_motor">
      <mechanicalReduction>1</mechanicalReduction>
      <hardwareInterface>PositionJointInterface</hardwareInterface>
    </actuator>
  </transmission>
  <!--  ///////////////////////////////////////////////////////////////////////////  -->
  <!--  9.1. Define the communication device  -->
  <link name="21_communication_device">
    <inertial>
      <origin rpy="0 0 0" xyz="-0.073207 0.267940 -0.001922"/>
      <mass value="1.406801"/>
      <inertia ixx="0.029394" ixy="-0.007937" ixz="-0.000272" iyy="0.015020" iyz="-0.000311" izz="0.034771"/>
    </inertial>
    <visual>
      <origin rpy="0 0 0" xyz="0 0 0"/>
      <geometry>
        <mesh filename="package://mobot_description/meshes/21_communication_device.STL"/>
      </geometry>
      <material name="MiddleGrey"/>
    </visual>
    <collision>
      <origin rpy="0 0 0" xyz="0 0 0"/>
      <geometry>
        <mesh filename="package://mobot_description/meshes/21_communication_device.STL"/>
      </geometry>
    </collision>
  </link>
  <joint name="joint_communication_device" type="fixed">
    <origin rpy="1.5708 0.0 1.5708" xyz="-0.270106 0.044500 0.111500"/>
    <parent link="base_link"/>
    <child link="21_communication_device"/>
  </joint>
  <gazebo reference="21_communication_device">
    <material>Gazebo/FlatBlack</material>
    <turnGravityOff>false</turnGravityOff>
  </gazebo>
  <!--  9.2. Define the communication device front_frame  -->
  <link name="comm_front_camera_frame">
    <visual>
      <origin rpy="0 0 0" xyz="0 0 0"/>
      <geometry>
        <box size="0.0001 0.0001 0.0001"/>
      </geometry>
      <material name="Blue"/>
    </visual>
  </link>
  <joint name="joint_comm_front_camera" type="fixed">
    <origin rpy="-1.5708 -1.5708 0.0" xyz="0.0 0.4234 0.1012"/>
    <parent link="21_communication_device"/>
    <child link="comm_front_camera_frame"/>
    <axis xyz="1 0 0"/>
  </joint>
  <gazebo reference="comm_front_camera_frame">
    <material>Gazebo/Gold</material>
    <turnGravityOff>false</turnGravityOff>
    <sensor name="front_camera_sensor" type="camera">
      <update_rate>50.0</update_rate>
      <camera name="comm_front_camera">
        <horizontal_fov>1.3962634</horizontal_fov>
        <image>
          <width>800</width>
          <height>600</height>
          <format>R8G8B8</format>
        </image>
        <clip>
          <near>0.02</near>
          <far>300</far>
        </clip>
        <noise>
          <type>gaussian</type>
          <mean>0.0</mean>
          <stddev>0.007</stddev>
        </noise>
      </camera>
      <plugin filename="libgazebo_ros_camera.so" name="camera_controller">
        <alwaysOn>true</alwaysOn>
        <updateRate>0.0</updateRate>
        <cameraName>comm_front_camera</cameraName>
        <imageTopicName>image_raw</imageTopicName>
        <cameraInfoTopicName>camera_info</cameraInfoTopicName>
        <frameName>comm_front_camera_frame</frameName>
        <hackBaseline>0.07</hackBaseline>
        <distortionK1>0.0</distortionK1>
        <distortionK2>0.0</distortionK2>
        <distortionK3>0.0</distortionK3>
        <distortionT1>0.0</distortionT1>
        <distortionT2>0.0</distortionT2>
      </plugin>
    </sensor>
  </gazebo>
  <!--  9.3. Define the communication device rear_frame  -->
  <link name="comm_rear_camera_frame">
    <visual>
      <origin rpy="0 0 0" xyz="0 0 0"/>
      <geometry>
        <box size="0.0001 0.0001 0.0001"/>
      </geometry>
      <material name="Blue"/>
    </visual>
  </link>
  <joint name="joint_comm_rear_camera" type="fixed">
    <origin rpy="-1.5708 1.5708 0.0" xyz="0.0 0.4234 -0.1012"/>
    <parent link="21_communication_device"/>
    <child link="comm_rear_camera_frame"/>
    <axis xyz="1 0 0"/>
  </joint>
  <gazebo reference="comm_rear_camera_frame">
    <material>Gazebo/Gold</material>
    <turnGravityOff>false</turnGravityOff>
    <sensor name="rear_camera_sensor" type="camera">
      <update_rate>50.0</update_rate>
      <camera name="comm_rear_camera">
        <horizontal_fov>1.3962634</horizontal_fov>
        <image>
          <width>800</width>
          <height>600</height>
          <format>R8G8B8</format>
        </image>
        <clip>
          <near>0.02</near>
          <far>300</far>
        </clip>
        <noise>
          <type>gaussian</type>
          <mean>0.0</mean>
          <stddev>0.007</stddev>
        </noise>
      </camera>
      <plugin filename="libgazebo_ros_camera.so" name="camera_controller">
        <alwaysOn>true</alwaysOn>
        <updateRate>0.0</updateRate>
        <cameraName>comm_rear_camera</cameraName>
        <imageTopicName>image_raw</imageTopicName>
        <cameraInfoTopicName>camera_info</cameraInfoTopicName>
        <frameName>comm_rear_camera_frame</frameName>
        <hackBaseline>0.07</hackBaseline>
        <distortionK1>0.0</distortionK1>
        <distortionK2>0.0</distortionK2>
        <distortionK3>0.0</distortionK3>
        <distortionT1>0.0</distortionT1>
        <distortionT2>0.0</distortionT2>
      </plugin>
    </sensor>
  </gazebo>
  <!--  9.4. Define the turret camera device  -->
  <link name="22_turret_camera">
    <inertial>
      <origin rpy="0 0 0" xyz="-0.010050 0.052694 0.029382"/>
      <mass value="0.456106"/>
      <inertia ixx="0.000971" ixy="0.0" ixz="0.0" iyy="0.000697" iyz="-0.000184" izz="0.000655"/>
    </inertial>
    <visual>
      <origin rpy="0 0 0" xyz="0 0 0"/>
      <geometry>
        <mesh filename="package://mobot_description/meshes/22_turret_camera.STL"/>
      </geometry>
      <material name="MiddleGrey"/>
    </visual>
    <collision>
      <origin rpy="0 0 0" xyz="0 0 0"/>
      <geometry>
        <mesh filename="package://mobot_description/meshes/22_turret_camera.STL"/>
      </geometry>
    </collision>
  </link>
  <joint name="joint_turret_camera" type="fixed">
    <origin rpy="1.5708 0.0 1.5708" xyz="-0.004320 0.010050 0.197500"/>
    <parent link="12_arm_turret_rotate"/>
    <child link="22_turret_camera"/>
  </joint>
  <gazebo reference="22_turret_camera">
    <material>Gazebo/FlatBlack</material>
    <turnGravityOff>false</turnGravityOff>
  </gazebo>
  <!--  9.5. Define the turret camera frame  -->
  <link name="turret_camera_frame">
    <visual>
      <origin rpy="0 0 0" xyz="0 0 0"/>
      <geometry>
        <box size="0.0001 0.0001 0.0001"/>
      </geometry>
      <material name="Blue"/>
    </visual>
  </link>
  <joint name="joint_turret_camera_frame" type="fixed">
    <origin rpy="0.0 -1.0472 -1.5708" xyz="-0.010050 0.055650 0.086840"/>
    <parent link="22_turret_camera"/>
    <child link="turret_camera_frame"/>
    <axis xyz="1 0 0"/>
  </joint>
  <gazebo reference="turret_camera_frame">
    <material>Gazebo/Gold</material>
    <turnGravityOff>false</turnGravityOff>
    <!-- camera sensor -->
    <sensor name="turret_camera_sensor" type="camera">
      <update_rate>50.0</update_rate>
      <camera name="turret_camera">
        <horizontal_fov>1.3962634</horizontal_fov>
        <image>
          <width>800</width>
          <height>600</height>
          <format>R8G8B8</format>
        </image>
        <clip>
          <near>0.02</near>
          <far>300</far>
        </clip>
        <noise>
          <type>gaussian</type>
          <mean>0.0</mean>
          <stddev>0.007</stddev>
        </noise>
      </camera>
      <plugin filename="libgazebo_ros_camera.so" name="camera_controller">
        <alwaysOn>true</alwaysOn>
        <updateRate>0.0</updateRate>
        <cameraName>turret_camera</cameraName>
        <imageTopicName>image_raw</imageTopicName>
        <cameraInfoTopicName>camera_info</cameraInfoTopicName>
        <frameName>turret_camera_frame</frameName>
        <hackBaseline>0.07</hackBaseline>
        <distortionK1>0.0</distortionK1>
        <distortionK2>0.0</distortionK2>
        <distortionK3>0.0</distortionK3>
        <distortionT1>0.0</distortionT1>
        <distortionT2>0.0</distortionT2>
      </plugin>
    </sensor>
  </gazebo>
  <!--  9.6. Define the turret laser frame  -->
  <link name="turret_laser_frame">
    <visual>
      <origin rpy="0 0 0" xyz="0 0 0"/>
      <geometry>
        <box size="0.0001 0.0001 0.0001"/>
      </geometry>
      <material name="Blue"/>
    </visual>
  </link>
  <joint name="joint_turret_laser_frame" type="fixed">
    <origin rpy="-1.5708 -1.5708 0.0" xyz="-0.010050 0.055650 0.086840"/>
    <parent link="22_turret_camera"/>
    <child link="turret_laser_frame"/>
    <axis xyz="1 0 0"/>
  </joint>
  <gazebo reference="turret_laser_frame">
    <material>Gazebo/Gold</material>
    <turnGravityOff>false</turnGravityOff>
    <!-- laser sensor -->
    <sensor name="turret_laser_sensor" type="ray">
      <pose>0 0 0 0 0 0</pose>
      <visualize>true</visualize>
      <update_rate>50.0</update_rate>
      <ray>
        <scan>
          <horizontal>
            <samples>720</samples>
            <resolution>1</resolution>
            <min_angle>-1.570796</min_angle>
            <max_angle>1.570796</max_angle>
          </horizontal>
        </scan>
        <range>
          <min>0.10</min>
          <max>30.0</max>
          <resolution>0.01</resolution>
        </range>
      </ray>
      <plugin filename="libgazebo_ros_laser.so" name="gazebo_ros_head_hokuyo_controller">
        <topicName>turret_laser/scan</topicName>
        <frameName>turret_laser_frame</frameName>
      </plugin>
    </sensor>
  </gazebo>
  <!--  9.7. Define the wrist camera device  -->
  <link name="23_wrist_camera">
    <inertial>
      <origin rpy="0 0 0" xyz="0.002782 0.015366 0.088178"/>
      <mass value="0.245316"/>
      <inertia ixx="0.000602" ixy="0.0" ixz="0.0" iyy="0.000308" iyz="0.0" izz="0.000509"/>
    </inertial>
    <visual>
      <origin rpy="0 0 0" xyz="0 0 0"/>
      <geometry>
        <mesh filename="package://mobot_description/meshes/23_wrist_camera.STL"/>
      </geometry>
      <material name="MiddleGrey"/>
    </visual>
    <collision>
      <origin rpy="0 0 0" xyz="0 0 0"/>
      <geometry>
        <mesh filename="package://mobot_description/meshes/23_wrist_camera.STL"/>
      </geometry>
    </collision>
  </link>
  <joint name="joint_wrist_camera" type="fixed">
    <origin rpy="-1.5708 0.0 0.0" xyz="0.103000 0.0 0.048500"/>
    <parent link="17_arm_wrist_pitch"/>
    <child link="23_wrist_camera"/>
  </joint>
  <gazebo reference="23_wrist_camera">
    <material>Gazebo/FlatBlack</material>
    <turnGravityOff>false</turnGravityOff>
  </gazebo>
  <!--  9.8. Define the wrist camera frame  -->
  <link name="wrist_camera_frame">
    <visual>
      <origin rpy="0 0 0" xyz="0 0 0"/>
      <geometry>
        <box size="0.0001 0.0001 0.0001"/>
      </geometry>
      <material name="Blue"/>
    </visual>
  </link>
  <joint name="joint_wrist_camera_frame" type="fixed">
    <origin rpy="0.0 0.0 0.0" xyz="0.042950 -0.048500 0.074000"/>
    <parent link="23_wrist_camera"/>
    <child link="wrist_camera_frame"/>
    <axis xyz="1 0 0"/>
  </joint>
  <gazebo reference="wrist_camera_frame">
    <material>Gazebo/Gold</material>
    <turnGravityOff>false</turnGravityOff>
    <sensor name="wrist_camera_sensor" type="camera">
      <update_rate>50.0</update_rate>
      <camera name="wrist_camera">
        <horizontal_fov>1.3962634</horizontal_fov>
        <image>
          <width>800</width>
          <height>600</height>
          <format>R8G8B8</format>
        </image>
        <clip>
          <near>0.02</near>
          <far>300</far>
        </clip>
        <noise>
          <type>gaussian</type>
          <mean>0.0</mean>
          <stddev>0.007</stddev>
        </noise>
      </camera>
      <plugin filename="libgazebo_ros_camera.so" name="camera_controller">
        <alwaysOn>true</alwaysOn>
        <updateRate>0.0</updateRate>
        <cameraName>wrist_camera</cameraName>
        <imageTopicName>image_raw</imageTopicName>
        <cameraInfoTopicName>camera_info</cameraInfoTopicName>
        <frameName>wrist_camera_frame</frameName>
        <hackBaseline>0.07</hackBaseline>
        <distortionK1>0.0</distortionK1>
        <distortionK2>0.0</distortionK2>
        <distortionK3>0.0</distortionK3>
        <distortionT1>0.0</distortionT1>
        <distortionT2>0.0</distortionT2>
      </plugin>
    </sensor>
  </gazebo>
  <!--  9.7. Define the wrist camera device  -->
  <!-- link name="23_wrist_camera">
    <inertial>
      <origin xyz="-0.044001 -0.002782 -0.011459" rpy="0 0 0" />
      <mass value="0.245316" />
      <inertia ixx="0.000494" ixy="0.0" ixz="0.0"
               iyy="0.000602" iyz="0.0" izz="0.000322" />
    </inertial>
    <visual>
      <origin xyz="0 0 0" rpy="0 0 0" />
      <geometry>
        <mesh filename="package://mobot_description/meshes/23_wrist_camera.STL" />
      </geometry>
      <material name="Grey" />
    </visual>
    <collision>
      <origin xyz="0 0 0" rpy="0 0 0" />
      <geometry>
        <mesh filename="package://mobot_description/meshes/23_wrist_camera.STL" />
      </geometry>
    </collision>
  </link>

  <joint name="joint_wrist_camera" type="fixed">
    <origin xyz="0.0782593323481775 0.079583144574826 0.028" rpy="3.14159265358979 -0.141599082988619 -1.17249173950166" />
    <parent link="17_arm_wrist_pitch" />
    <child link="23_wrist_camera" />
  </joint -->
  <!--  ///////////////////////////////////////////////////////////////////////////  -->
  <!--  10.1. Define the gazebo_ros_control plugin  -->
  <gazebo>
    <plugin filename="libgazebo_ros_control.so" name="gazebo_ros_control">
      <robotNamespace>/mobot_vehicle</robotNamespace>
    </plugin>
  </gazebo>
  <!--  10.2. Define the skid steering drive controller  -->
  <gazebo>
    <plugin filename="libgazebo_ros_skid_steer_drive.so" name="skid_steer_drive_controller">
      <updateRate>100.0</updateRate>
      <robotNamespace>/</robotNamespace>
      <leftFrontJoint>joint_wheel_lf</leftFrontJoint>
      <rightFrontJoint>joint_wheel_rf</rightFrontJoint>
      <leftRearJoint>joint_wheel_lb</leftRearJoint>
      <rightRearJoint>joint_wheel_rb</rightRearJoint>
      <wheelSeparation>0.7802</wheelSeparation>
      <wheelDiameter>0.350</wheelDiameter>
      <robotBaseFrame>base_footprint</robotBaseFrame>
      <odometryFrame>odom</odometryFrame>
      <torque>50</torque>
      <commandTopic>navigation_command</commandTopic>
      <broadcastTF>1</broadcastTF>
      <odometryTopic>odom</odometryTopic>
    </plugin>
  </gazebo>
  <!--  10.3. Define the gazebo_ros_joint_state_publisher plugin  -->
  <gazebo>
    <plugin filename="libgazebo_ros_joint_state_publisher.so" name="joint_state_publisher">
      <jointName>
        joint_wheel_lf, joint_wheel_rf, joint_wheel_lb, joint_wheel_rb
      </jointName>
      <robotNamespace>/mobot_wheel</robotNamespace>
      <updateRate>50.0</updateRate>
      <alwaysOn>true</alwaysOn>
    </plugin>
  </gazebo>
</robot>
